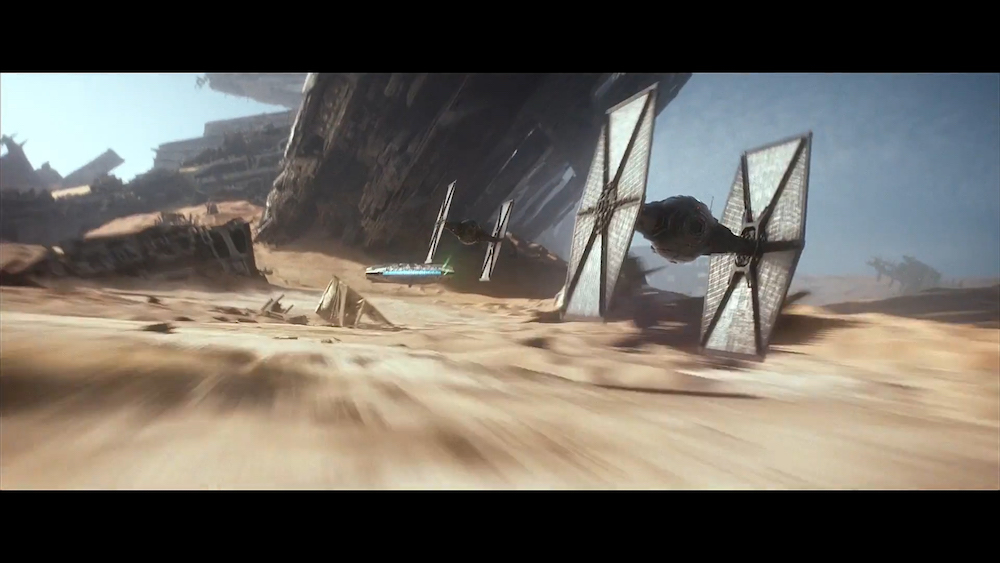Millennium Falcon: (365, 262, 457, 288)
Tie Fighter: (557, 82, 815, 366), (424, 180, 516, 282)
